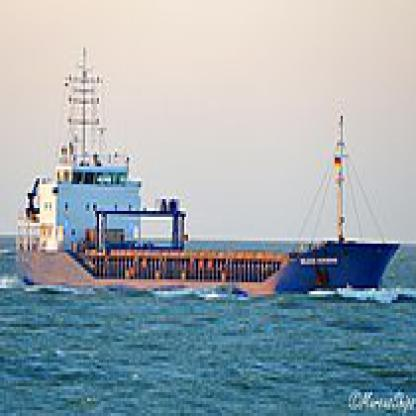Container Ship: (14, 45, 400, 296)
